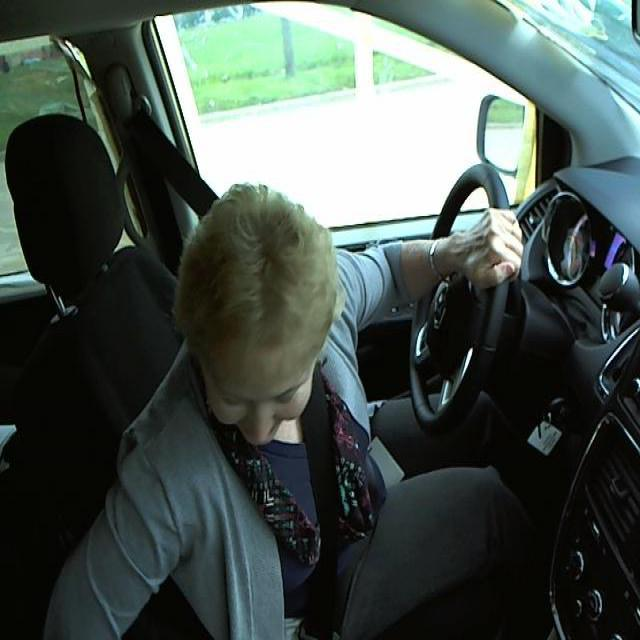seatbelt: (151, 120, 226, 211)
